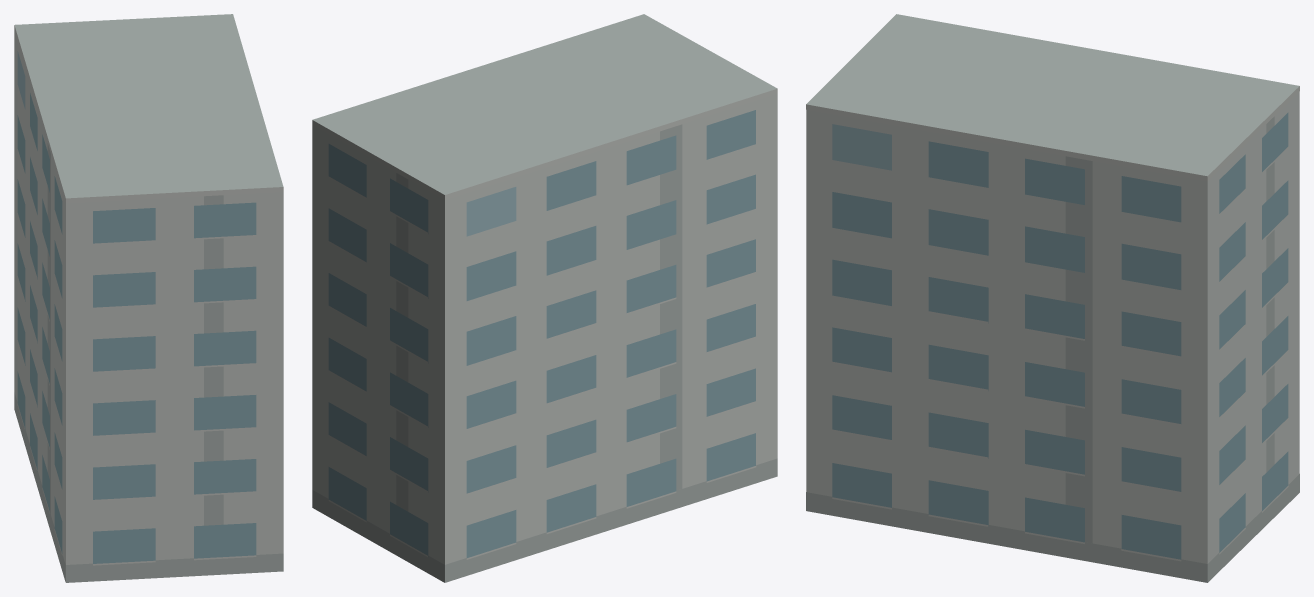
The model's file is survey-upis-32561068.glb.
3 renders of one model, left to right at view 1: azimuth 30°, elevation 25°; view 2: azimuth 150°, elevation 25°; view 3: azimuth 270°, elevation 25°, orthographic. The views are drawn at different scales.
Parts seen in each view (by area): view 1: survey-upis-32561068.tmp; view 2: survey-upis-32561068.tmp; view 3: survey-upis-32561068.tmp.
Part boxes in pixels (x1,y1,x2,y2): survey-upis-32561068.tmp: (14, 14, 283, 582); survey-upis-32561068.tmp: (312, 14, 777, 582); survey-upis-32561068.tmp: (806, 14, 1299, 582).
Bounding box in the file's own units: 15.67 × 18.3 × 20.14.
